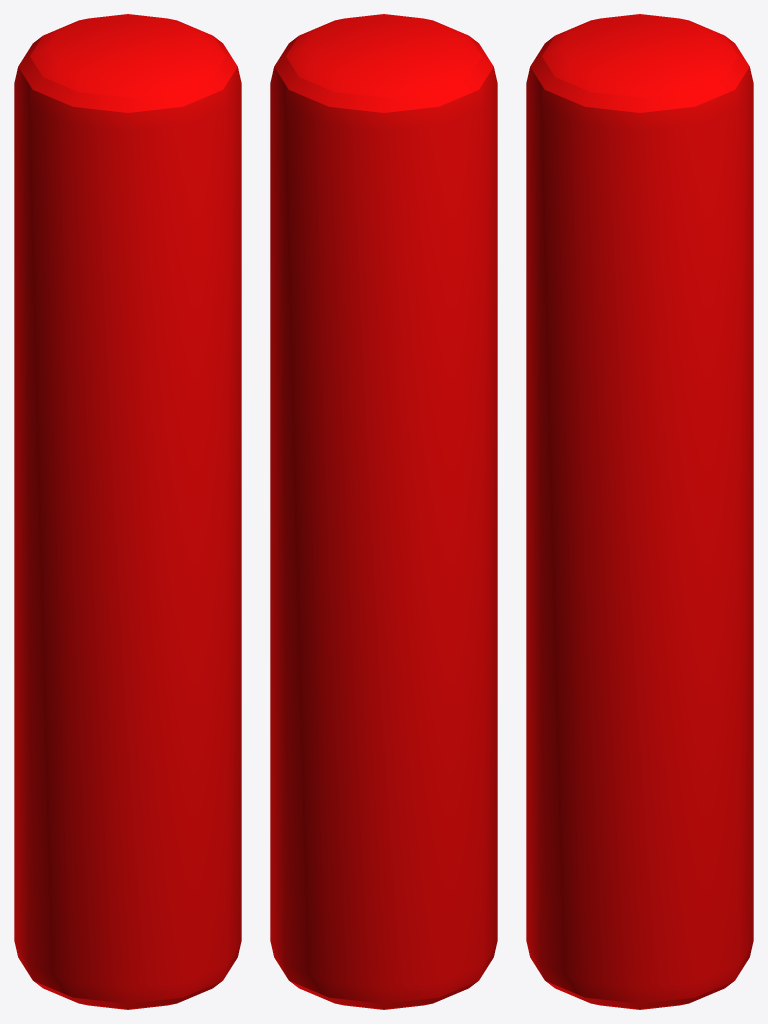
Rendered from SM_CastlePillar.FBX.
3 renders of one model, left to right at view 1: azimuth 30°, elevation 25°; view 2: azimuth 150°, elevation 25°; view 3: azimuth 270°, elevation 25°, orthographic.
Parts seen in each view (by area): view 1: Pillar_low; view 2: Pillar_low; view 3: Pillar_low.
Boxes of the visible parts, x1,y1,x2,y2 form: Pillar_low: [14, 14, 241, 1009]; Pillar_low: [270, 14, 497, 1009]; Pillar_low: [526, 14, 753, 1009].
Size of the model in its own units: 77.08 by 348 by 77.08.
